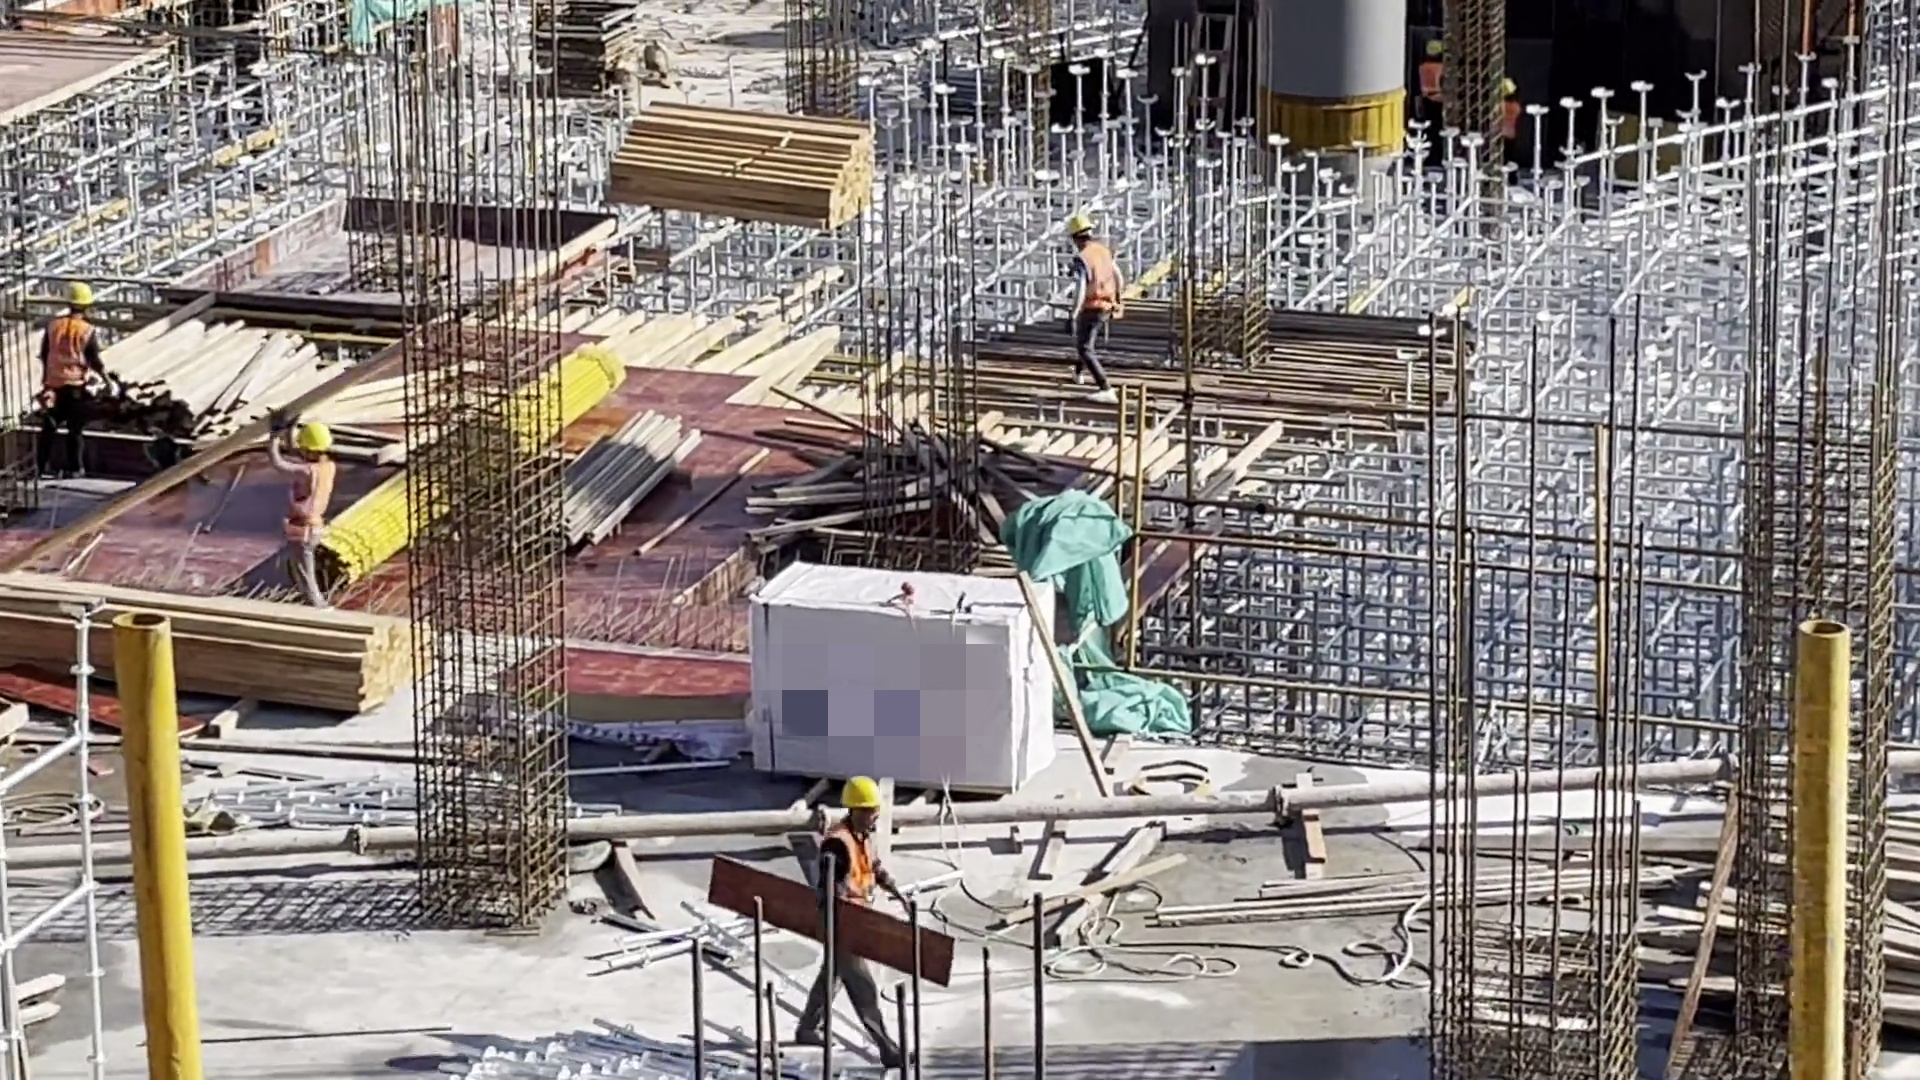helmet: (839, 776, 885, 809), (299, 424, 330, 451), (63, 283, 91, 304), (1067, 214, 1089, 236)
person: (793, 774, 921, 1066), (262, 412, 344, 595), (33, 279, 96, 479), (1055, 212, 1125, 391)
vest: (826, 831, 890, 919), (284, 461, 336, 535), (40, 318, 94, 388), (1075, 245, 1120, 315)
